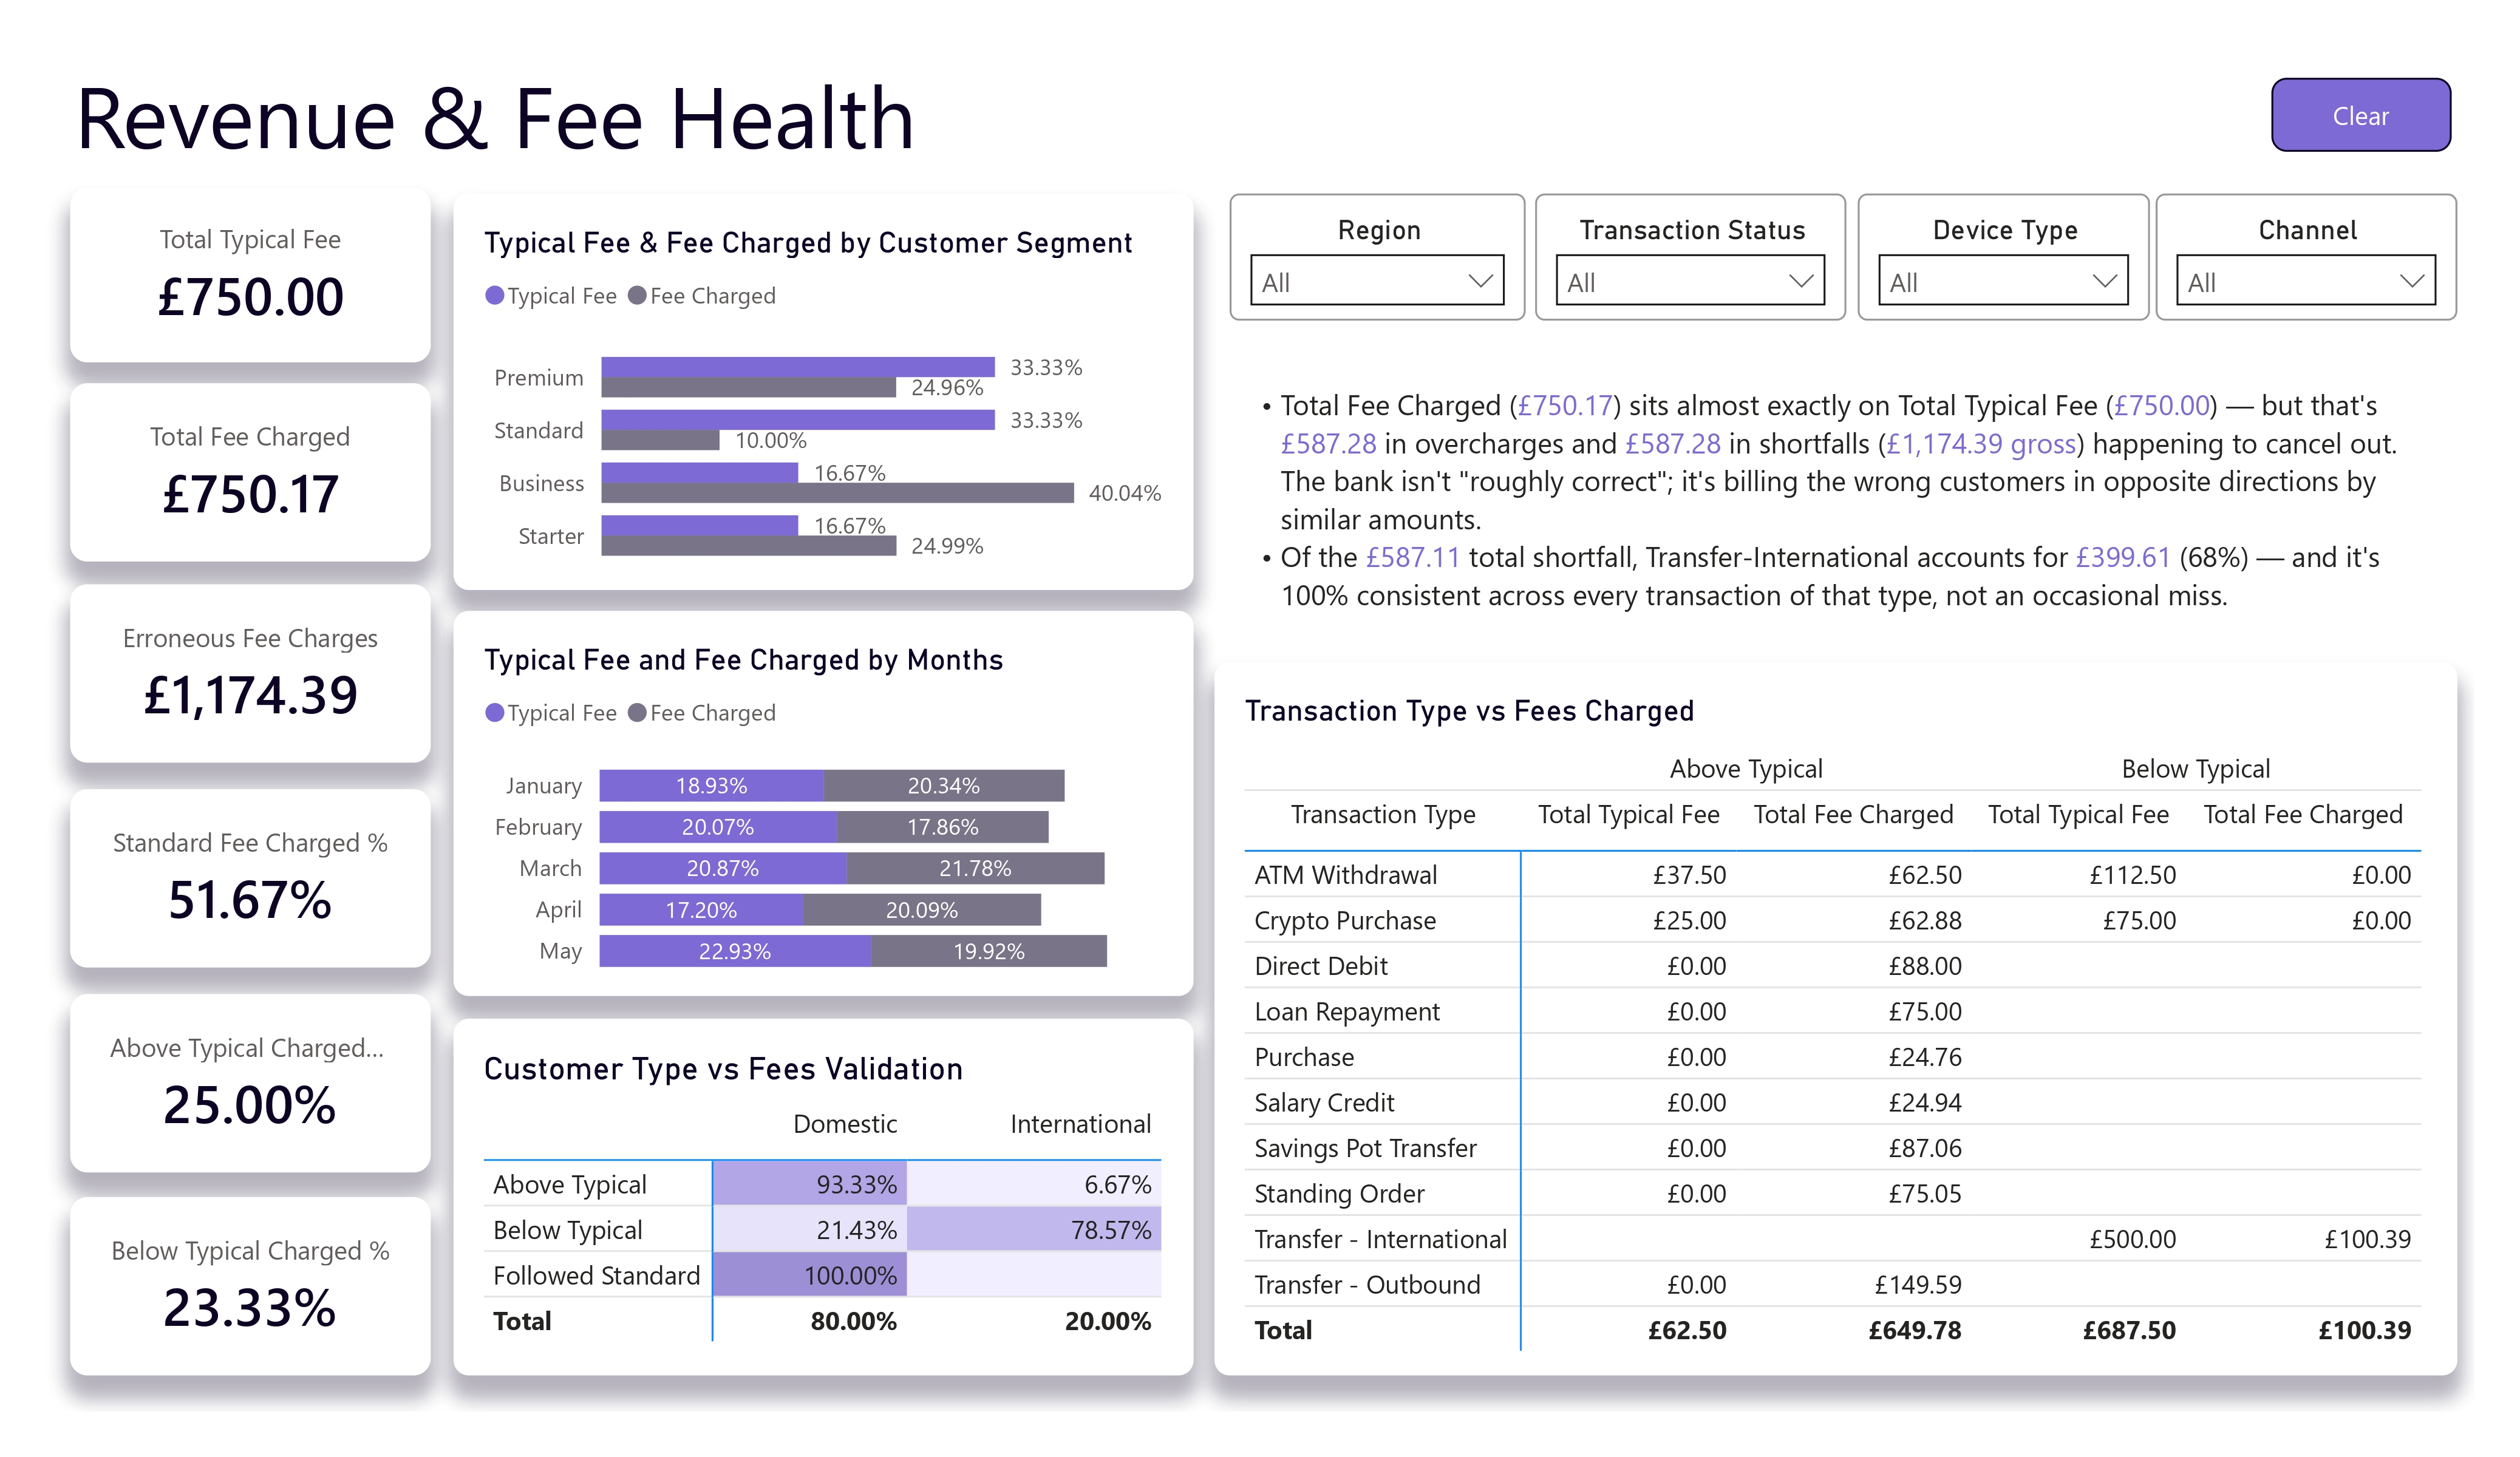

The page's visual inventory and layout, read from the dashboard file:
{"tool":"powerbi","page":{"name":"Revenue & Fee Health","canvas":[1280,720],"ordinal":4},"visuals":[{"type":"textbox","title":"Revenue & Fee Health","box":[10.3,0,787.6,61.7],"z":0},{"type":"cardVisual","fields":{"Data":["Measure table.Total Expected Fee"]},"box":[13.2,75.4,189.6,92],"z":1000},{"type":"cardVisual","fields":{"Data":["Measure table.Total Fee Charged"]},"box":[13.2,177.5,189.6,94],"z":2000},{"type":"clusteredBarChart","title":"Typical Fee & Fee Charged by Customer Segment","fields":{"Category":["zephyr.customer_segment"],"Y":["Sum(zephyr.typical_fee_gbp)","Sum(zephyr.fee_charged_gbp)"]},"box":[214.5,77.9,390.9,208.7],"z":3000},{"type":"barChart","title":"Typical Fee and Fee Charged by Months","fields":{"Category":["Datetable.Month Name"],"Y":["Divide(Sum(zephyr.typical_fee_gbp), ScopedEval(Sum(zephyr.typical_fee_gbp), []))","Divide(Sum(zephyr.fee_charged_gbp), ScopedEval(Sum(zephyr.fee_charged_gbp), []))"]},"box":[214.5,298.3,390.9,202.8],"z":4000},{"type":"pivotTable","title":"Transaction Type vs Fees Charged","fields":{"Rows":["zephyr.type_name"],"Columns":["zephyr.fee_charge_check"],"Values":["Measure table.Total Expected Fee","Measure table.Total Fee Charged"]},"box":[615.7,324.7,655,376.2],"z":5000},{"type":"cardVisual","fields":{"Data":["Measure table.Erroneous Fee Charges (£)"]},"box":[13.2,284.5,189.6,94],"z":6000},{"type":"cardVisual","fields":{"Data":["Measure table.Standard Fee Charged %"]},"box":[13.2,391.7,189.6,94],"z":7000},{"type":"pivotTable","title":"Customer Type vs Fees Validation","fields":{"Rows":["zephyr.fee_charge_check"],"Values":["Measure table.Total Transactions"],"Columns":["zephyr.Domestic"]},"box":[214.5,512.8,390.9,188.1],"z":8000},{"type":"cardVisual","fields":{"Data":["Measure table.Above Typical Charged %"]},"box":[13.2,499.6,189.6,94],"z":9000},{"type":"cardVisual","fields":{"Data":["Measure table.Below Typical Charged %"]},"box":[13.2,606.9,189.6,94],"z":10000},{"type":"slicer","title":"Region","fields":{"Values":["zephyr.region"]},"box":[624.5,77.9,155.8,67.6],"z":11000},{"type":"slicer","title":"Transaction Status","fields":{"Values":["zephyr.transaction_status"]},"box":[784.7,77.9,164.6,67.6],"z":12000},{"type":"slicer","title":"Device Type","fields":{"Values":["zephyr.device_type"]},"box":[955.1,77.9,154.3,67.6],"z":13000},{"type":"actionButton","box":[1172.5,17.3,95.4,39],"z":14000},{"type":"slicer","title":"Channel","fields":{"Values":["zephyr.channel"]},"box":[1112.3,77.9,158.7,67.6],"z":15000},{"type":"textbox","box":[624.5,157.2,643.6,157.2],"z":15001}]}

Visuals, with their boxes on the page's 1280x720 design canvas (x1, y1, x2, y2). These are canvas units, not pixel positions in the 2520x1457 screenshot, which may show the page scaled, cropped or inside an application window:
"Revenue & Fee Health" textbox: bbox=(10, 0, 798, 62)
cardVisual - Measure table.Total Expected Fee: bbox=(13, 75, 203, 167)
cardVisual - Measure table.Total Fee Charged: bbox=(13, 178, 203, 272)
"Typical Fee & Fee Charged by Customer Segment" clusteredBarChart: bbox=(214, 78, 605, 287)
"Typical Fee and Fee Charged by Months" barChart: bbox=(214, 298, 605, 501)
"Transaction Type vs Fees Charged" pivotTable: bbox=(616, 325, 1271, 701)
cardVisual - Measure table.Erroneous Fee Charges (£): bbox=(13, 284, 203, 378)
cardVisual - Measure table.Standard Fee Charged %: bbox=(13, 392, 203, 486)
"Customer Type vs Fees Validation" pivotTable: bbox=(214, 513, 605, 701)
cardVisual - Measure table.Above Typical Charged %: bbox=(13, 500, 203, 594)
cardVisual - Measure table.Below Typical Charged %: bbox=(13, 607, 203, 701)
"Region" slicer: bbox=(624, 78, 780, 146)
"Transaction Status" slicer: bbox=(785, 78, 949, 146)
"Device Type" slicer: bbox=(955, 78, 1109, 146)
actionButton: bbox=(1172, 17, 1268, 56)
"Channel" slicer: bbox=(1112, 78, 1271, 146)
textbox: bbox=(624, 157, 1268, 314)
